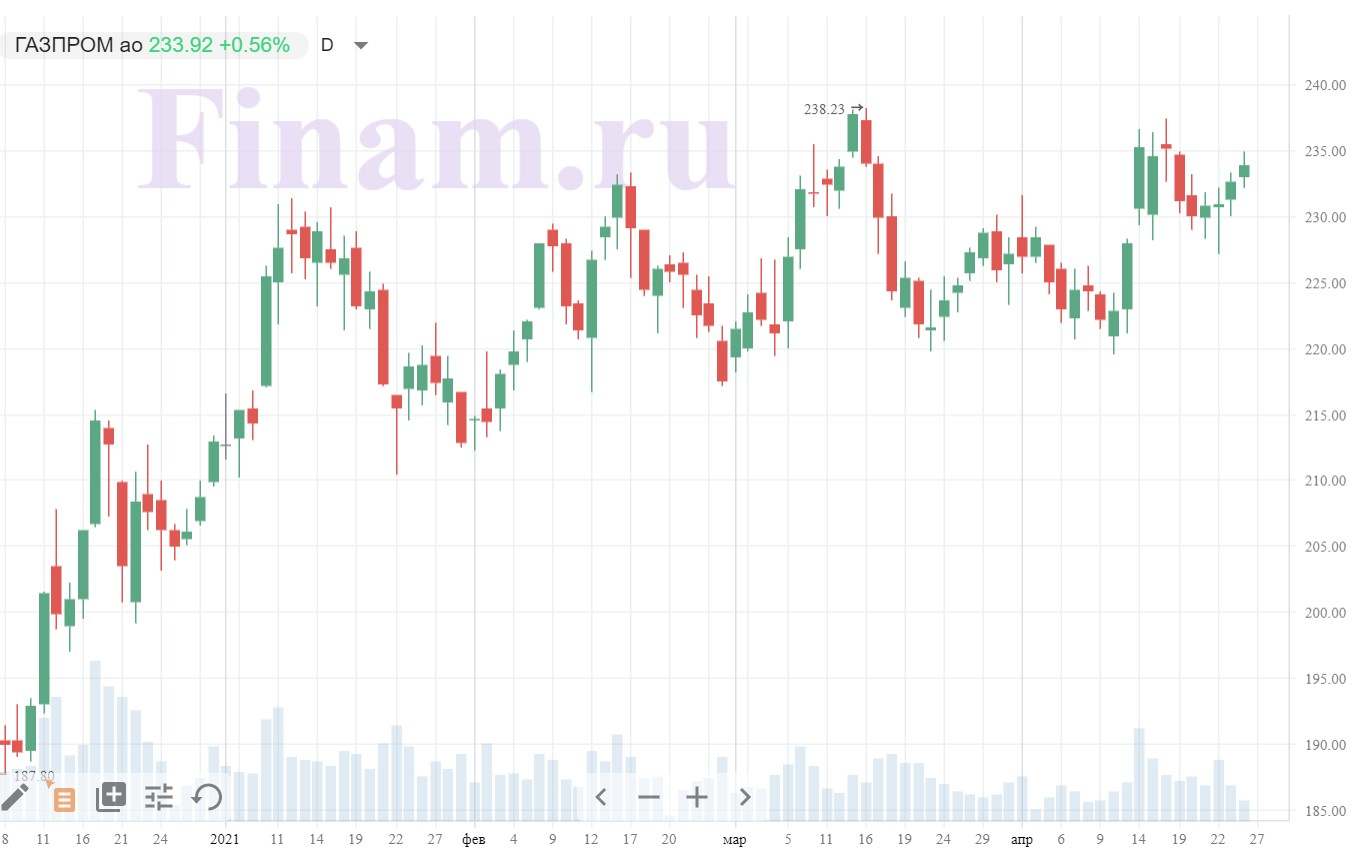bullishEngulfing: (573, 239, 602, 370)
eveningStar: (1147, 118, 1187, 239), (271, 195, 311, 308)
morningStar: (911, 270, 951, 350)
